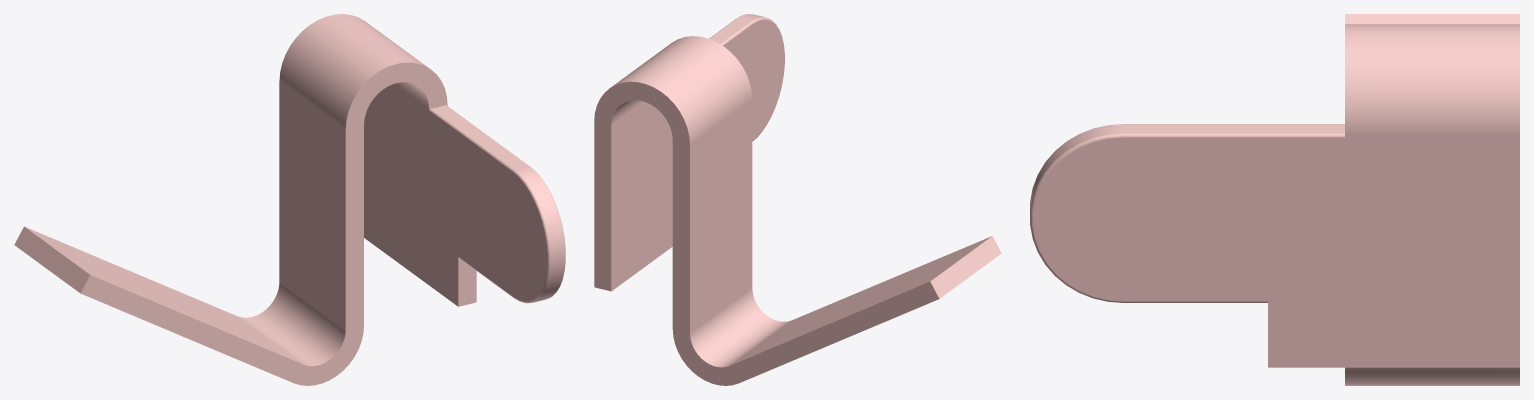
The model's file is brushes_right.gltf.
The picture shows the model from 3 angles, left to right: view 1: azimuth 30°, elevation 25°; view 2: azimuth 150°, elevation 25°; view 3: azimuth 270°, elevation 25°; orthographic projection. The views are drawn at different scales.
Visible parts, largest first — view 1: Part3; view 2: Part3; view 3: Part3.
Boxes of the visible parts, x1,y1,x2,y2 form: Part3: [14, 14, 565, 385]; Part3: [594, 14, 1001, 385]; Part3: [1030, 14, 1519, 385].
Bounding box in the file's own units: 0.008 × 0.00627 × 0.007.
